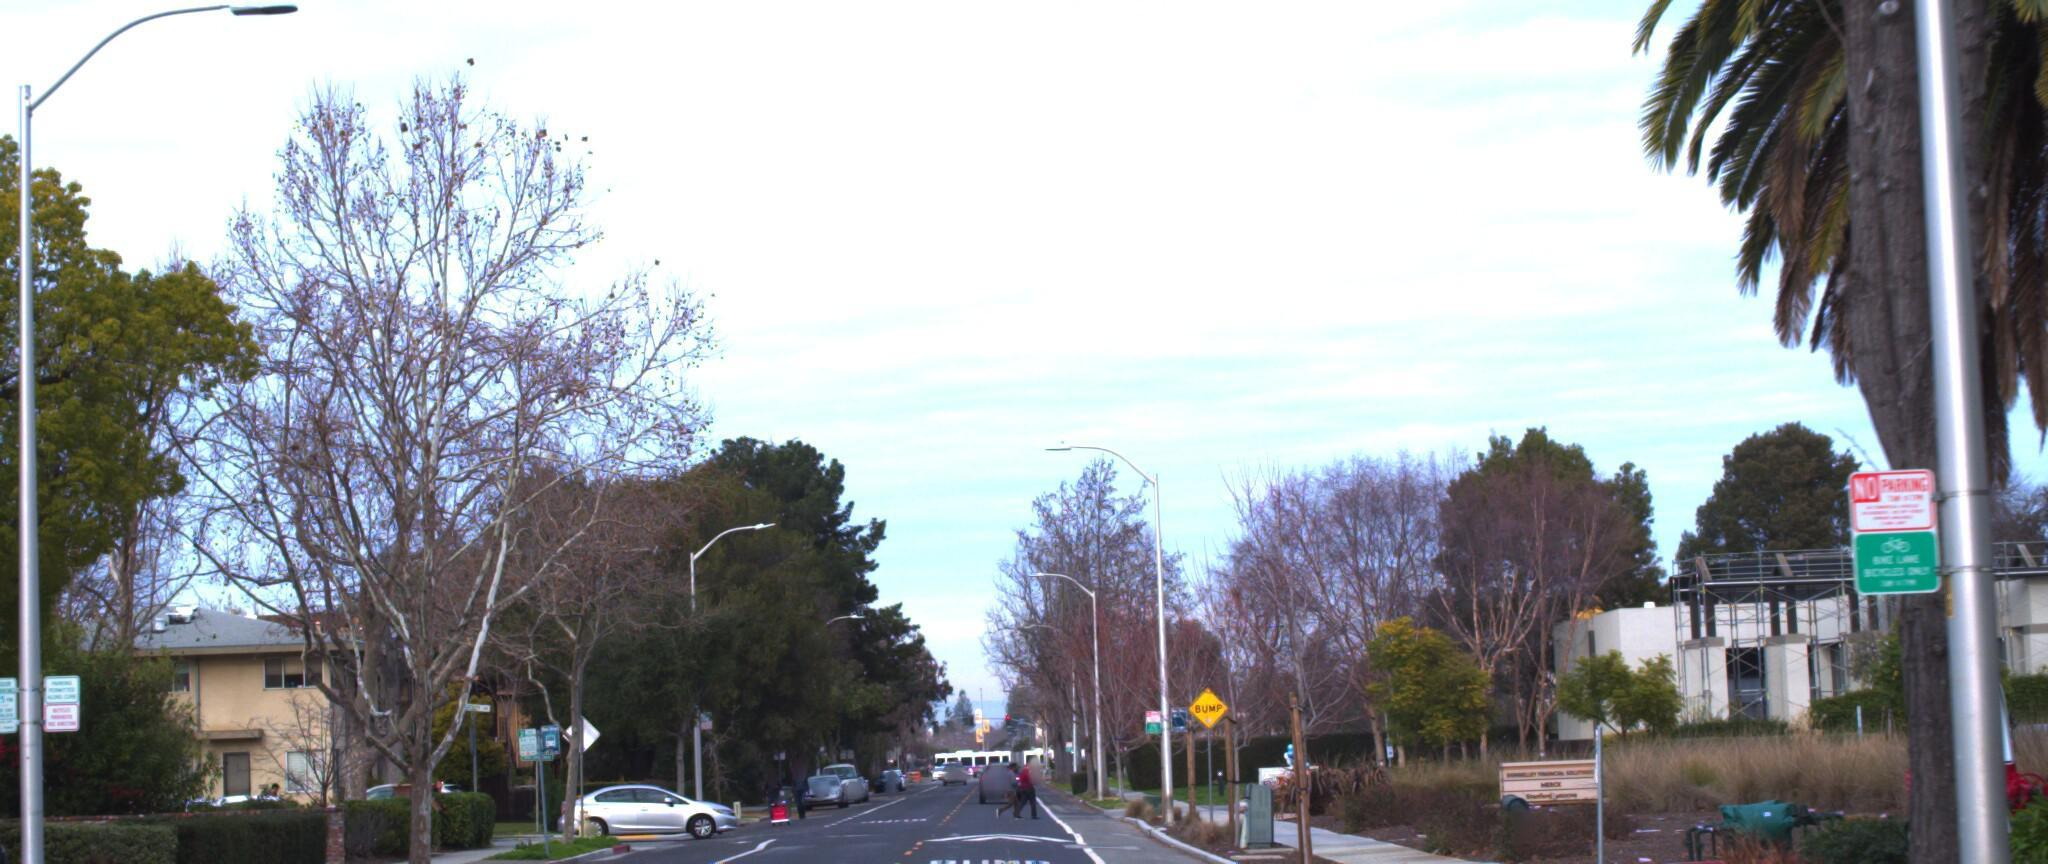car: (552, 764, 735, 834), (0, 786, 25, 864)
